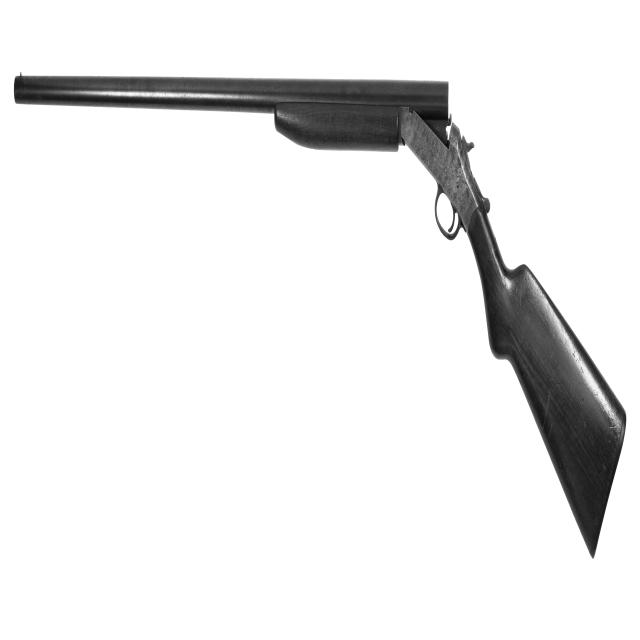Weapon: (14, 73, 626, 557)
